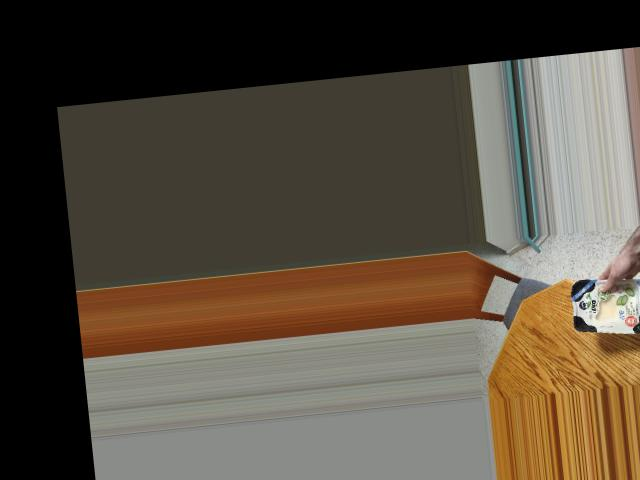cheese: (559, 268, 640, 332)
